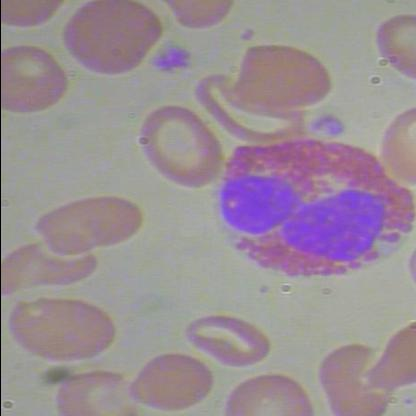Platelets: (150, 42, 192, 78), (310, 113, 342, 139)
RBC: (54, 0, 166, 76), (132, 100, 222, 192), (5, 296, 122, 366), (226, 36, 337, 108), (34, 188, 144, 260), (124, 344, 214, 411), (184, 309, 274, 375), (1, 42, 75, 115), (223, 368, 320, 416), (48, 368, 140, 416)
WBC: (203, 136, 415, 292)
